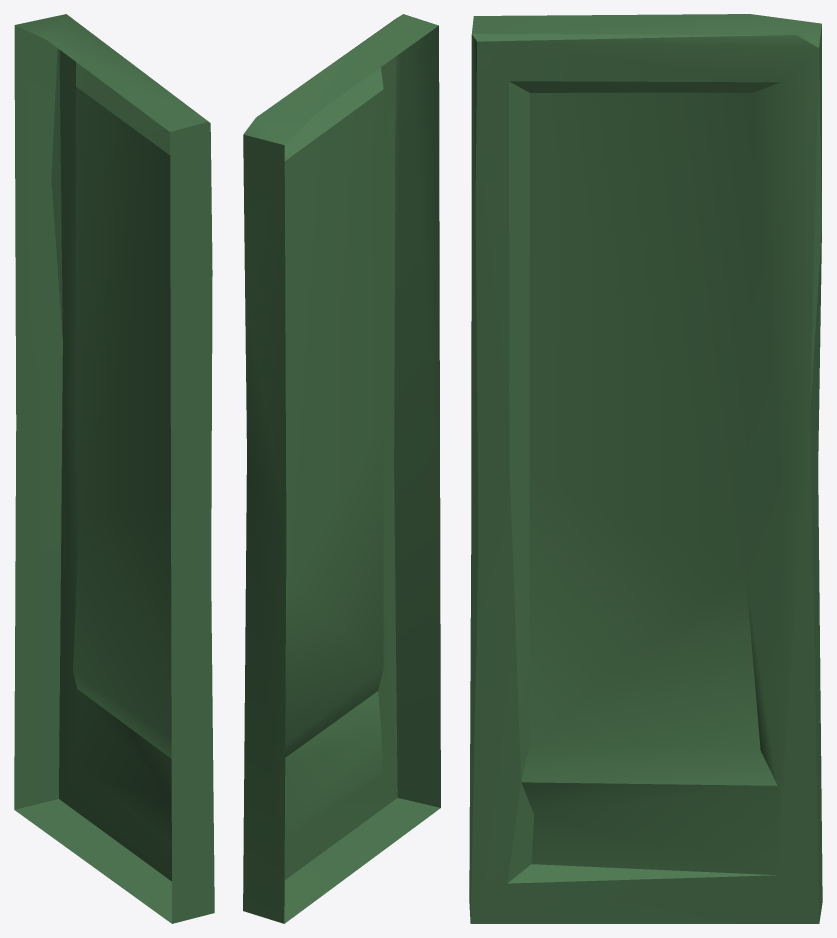
File: SM_windowwoodcovver.fbx
The picture shows the model from 3 angles, left to right: view 1: azimuth 30°, elevation 25°; view 2: azimuth 150°, elevation 25°; view 3: azimuth 270°, elevation 25°; orthographic projection. The views are drawn at different scales.
Parts seen in each view (by area): view 1: SM_windowwoodcovver; view 2: SM_windowwoodcovver; view 3: SM_windowwoodcovver.
Part boxes in pixels (bbox=[...]): SM_windowwoodcovver: bbox=[14, 14, 214, 923]; SM_windowwoodcovver: bbox=[243, 14, 440, 923]; SM_windowwoodcovver: bbox=[469, 14, 822, 923].
Bounding box in the file's own units: 6.34 × 111 × 40.13.
